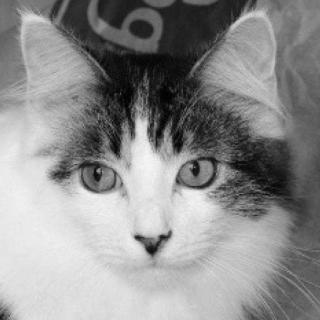cat: (11, 1, 289, 282)
nose: (128, 192, 177, 260)
